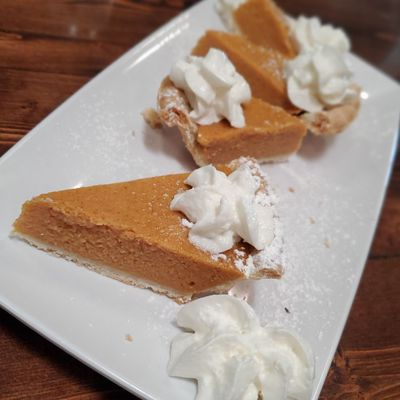curry: (2, 1, 394, 400)
